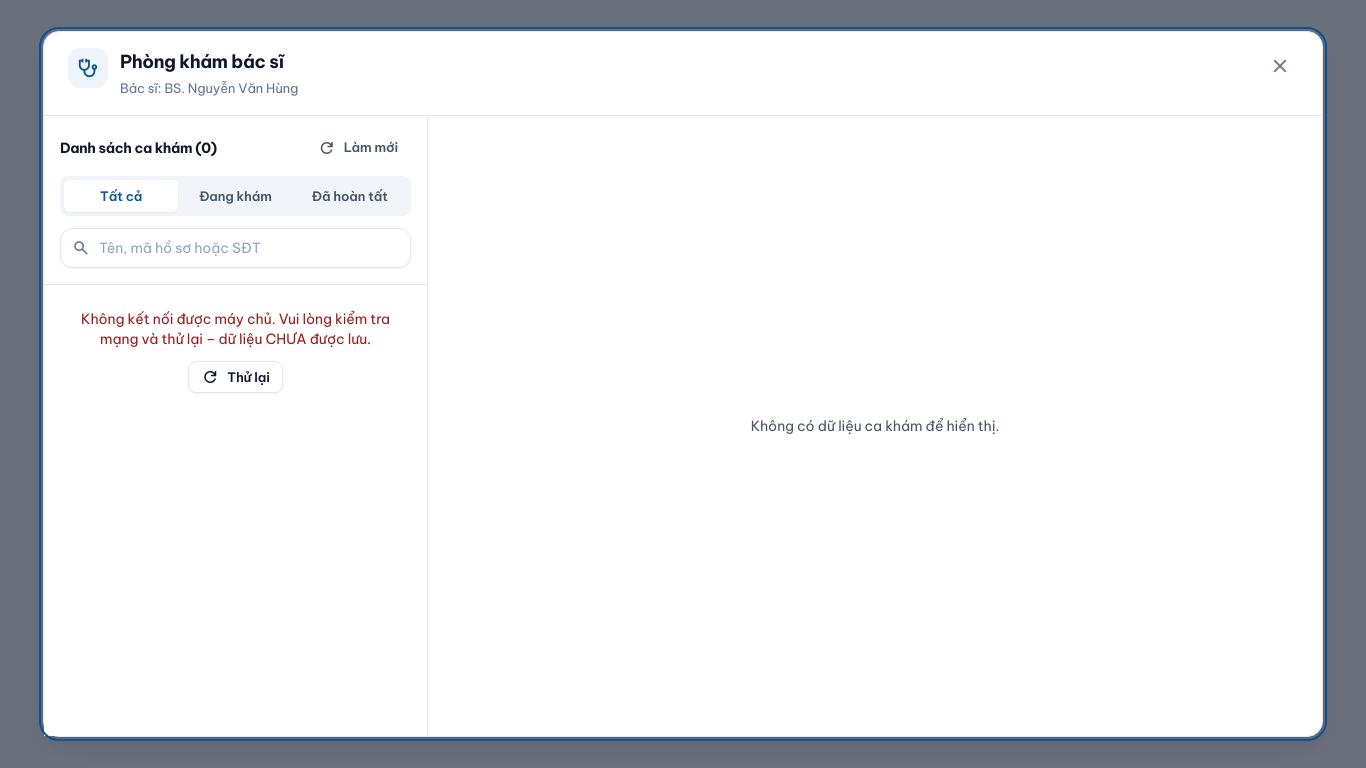
Test: Khám bệnh – giao diện Phòng khám bác sĩ (VisitDashboard) › không tải được danh sách → hiển thị lỗi + nút Thử lại, không có bệnh nhân mẫu
Check: the message shows "Không kết nối được máy chủ", box [81,310,390,348]
Check: the text "Trần Đức Minh" is not shown
Click the button "Thử lại" at [236, 377], box [188,361,283,393]
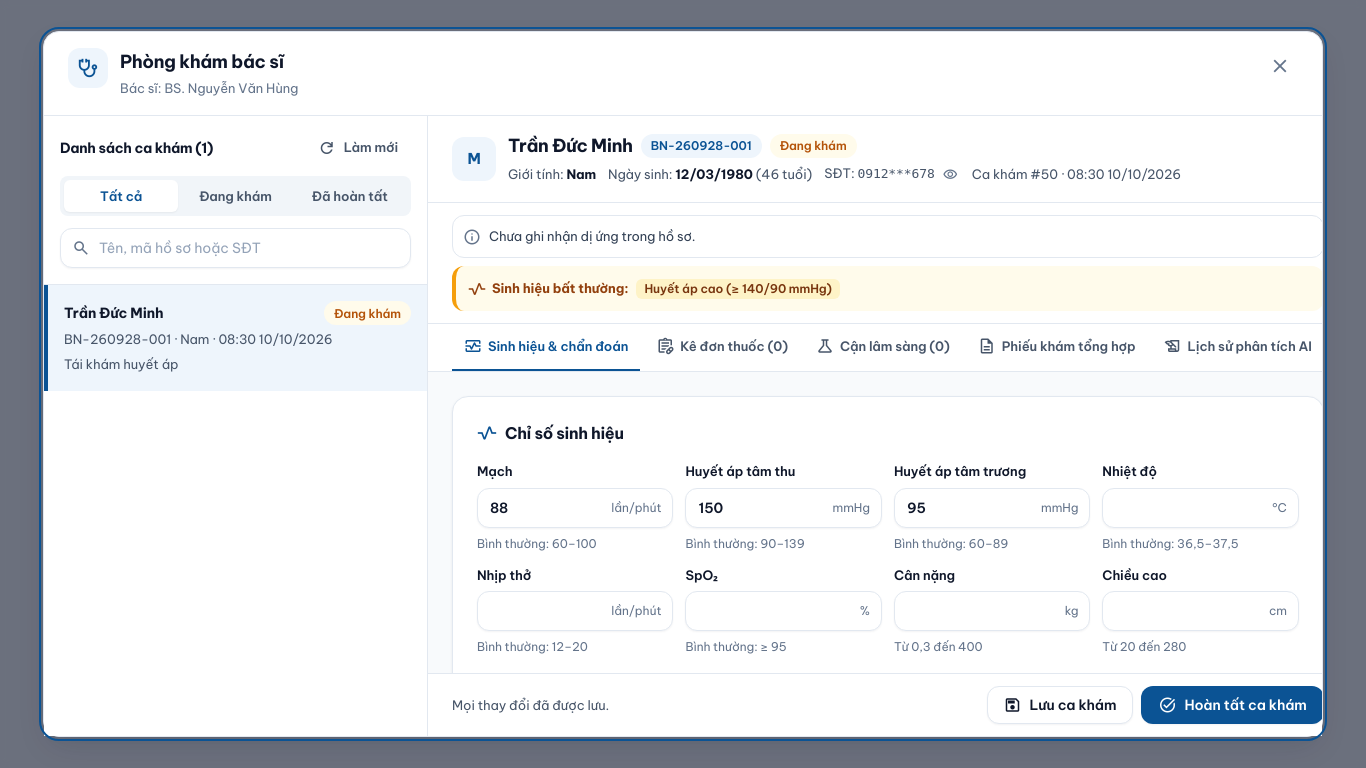
Check: the text "Trần Đức Minh" is shown, box [64,303,164,323]
